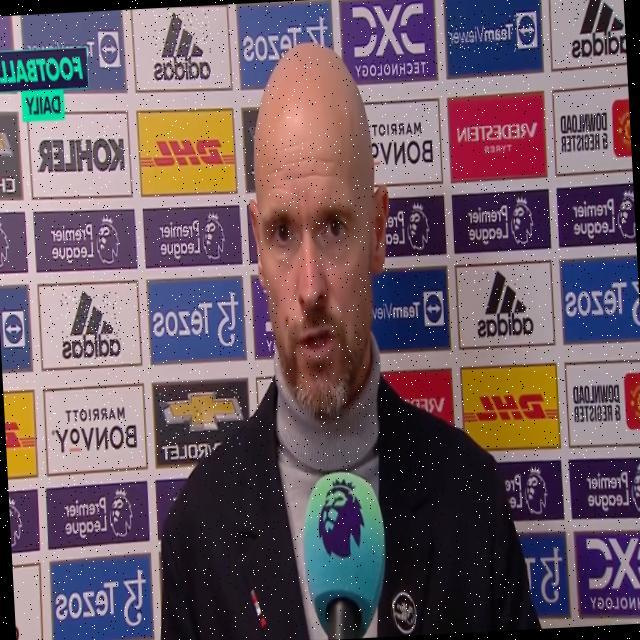Adidas: (151, 10, 212, 83), (60, 290, 121, 361), (474, 269, 535, 340), (568, 0, 627, 59)
Chevrolet: (158, 386, 245, 463)
Kohler: (37, 134, 125, 178)
TeamViewer: (447, 13, 538, 55)
